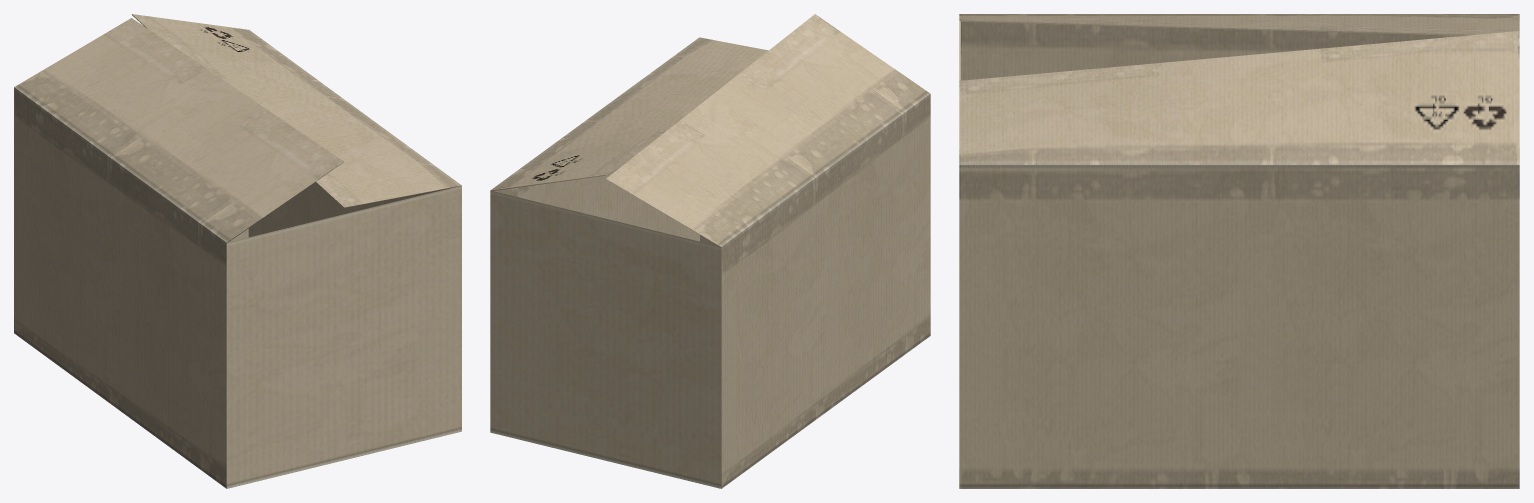
The model's file is sp_cardboard_2.FBX.
3 views of the same model, side by side, from view 1: azimuth 30°, elevation 25°; view 2: azimuth 150°, elevation 25°; view 3: azimuth 270°, elevation 25° (orthographic). The views are drawn at different scales.
Parts seen in each view (by area): view 1: sp_cardboard_2; view 2: sp_cardboard_2; view 3: sp_cardboard_2.
Boxes of the visible parts, x1=… form: sp_cardboard_2: x1=14, y1=14, x2=461, y2=488; sp_cardboard_2: x1=490, y1=14, x2=930, y2=488; sp_cardboard_2: x1=959, y1=14, x2=1519, y2=488.
Bounding box in the file's own units: 13.89 × 21.77 × 16.86.
